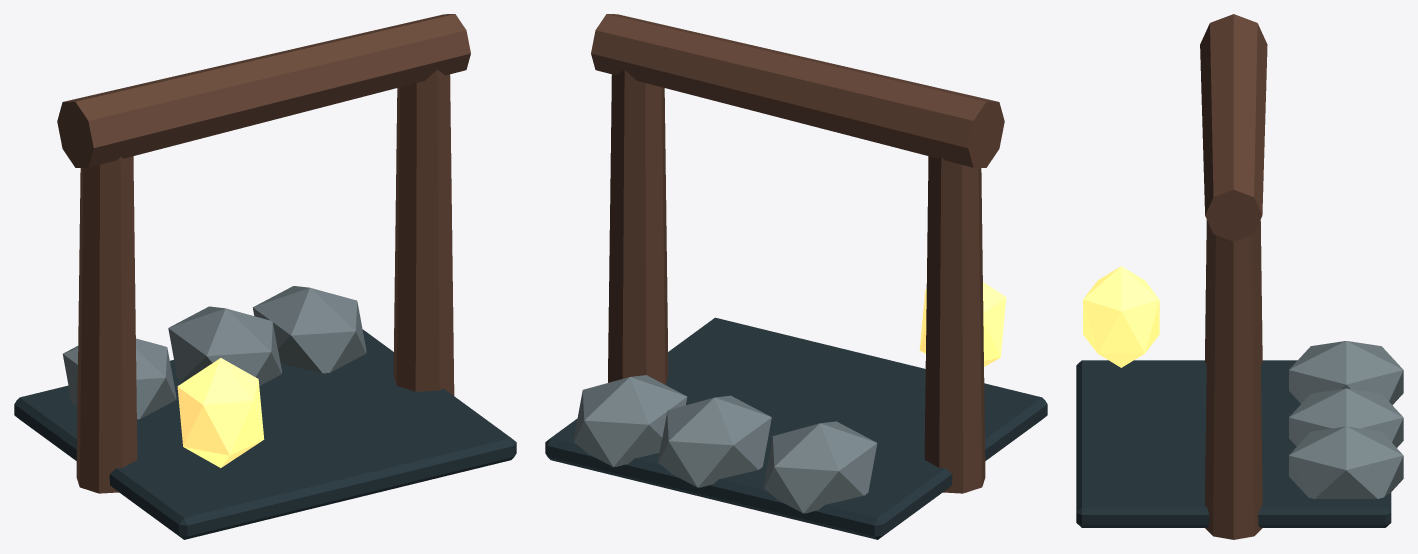
Rendered from goblin_mine.glb.
3 views of the same model, side by side, from view 1: azimuth 30°, elevation 25°; view 2: azimuth 150°, elevation 25°; view 3: azimuth 270°, elevation 25° (orthographic). The views are drawn at different scales.
Visible parts, largest first — view 1: Geometry, DeepOreBlock; view 2: Geometry, DeepOreBlock; view 3: Geometry, DeepOreBlock.
Part boxes in pixels (x1,y1,x2,y2): Geometry: (14, 14, 516, 539); DeepOreBlock: (177, 358, 264, 467); Geometry: (545, 14, 1047, 539); DeepOreBlock: (919, 282, 1006, 366); Geometry: (1076, 14, 1403, 539); DeepOreBlock: (1083, 266, 1159, 367).
Bounding box in the file's own units: 1.8 × 1.77 × 1.46.
